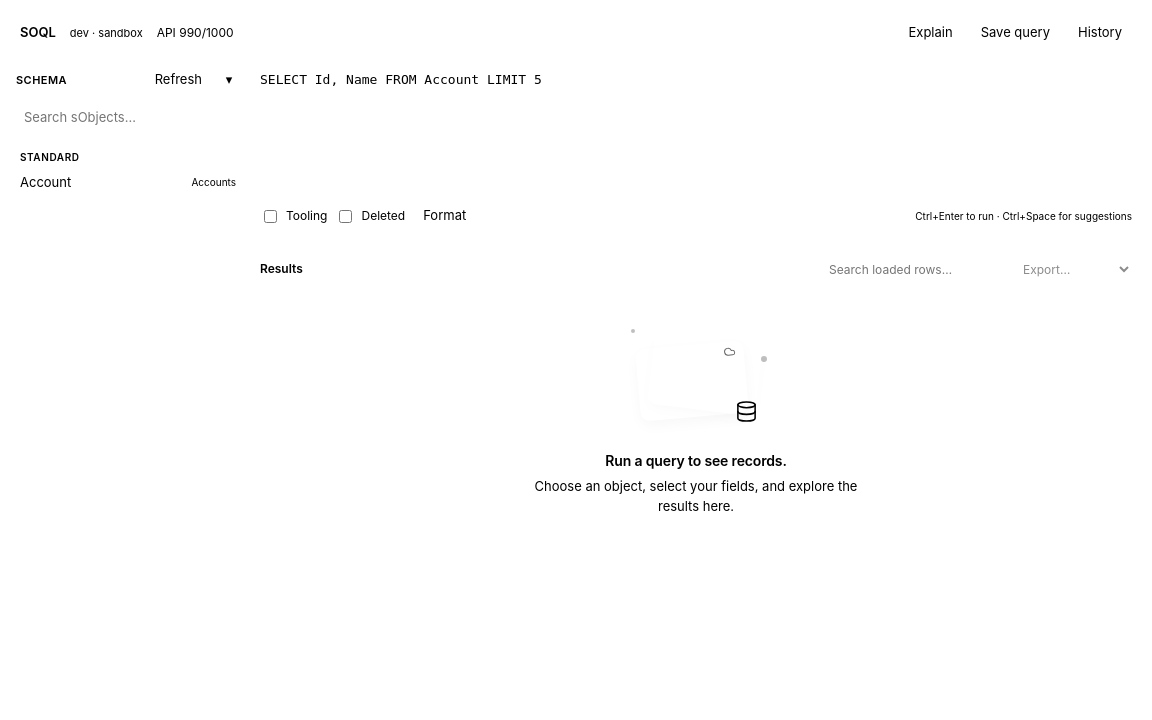
Test: SOQL workbench interactions › shows an error and no plan when explain fails
This screenshot has width=1152, height=720.
Click the button "Explain".
click(931, 33)  # box x1=898 y1=18 x2=963 y2=48
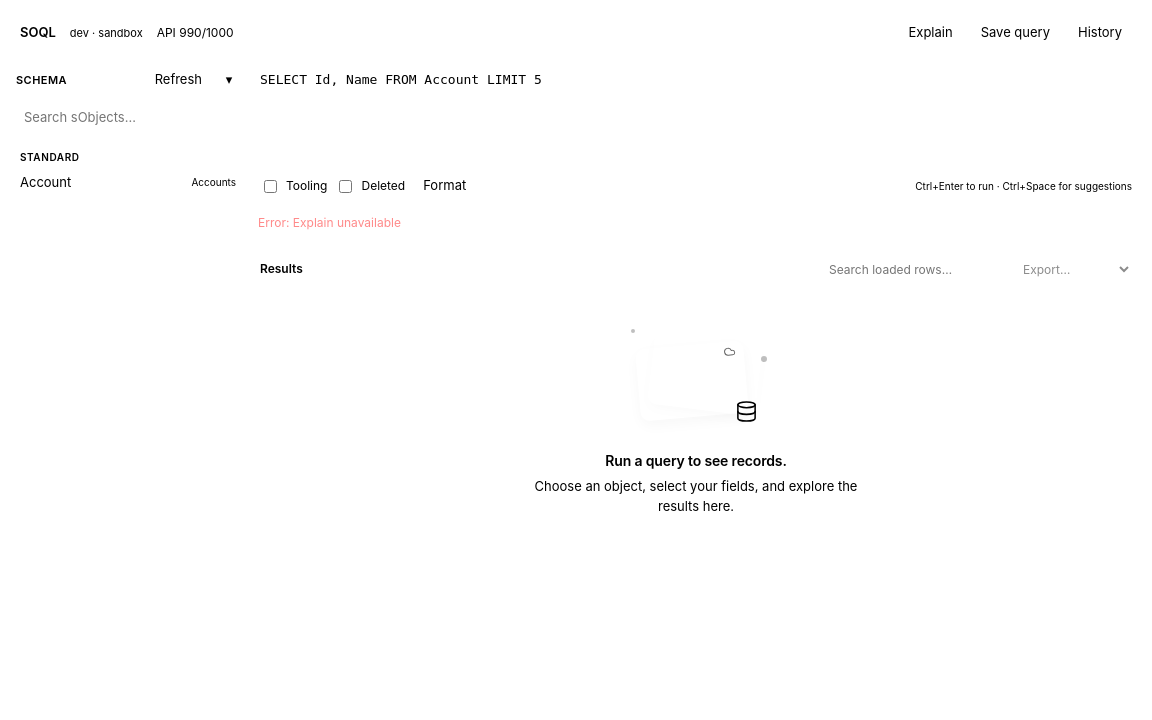
Expected: the text "Error: Explain unavailable" is shown, x1=258 y1=215 x2=401 y2=230
